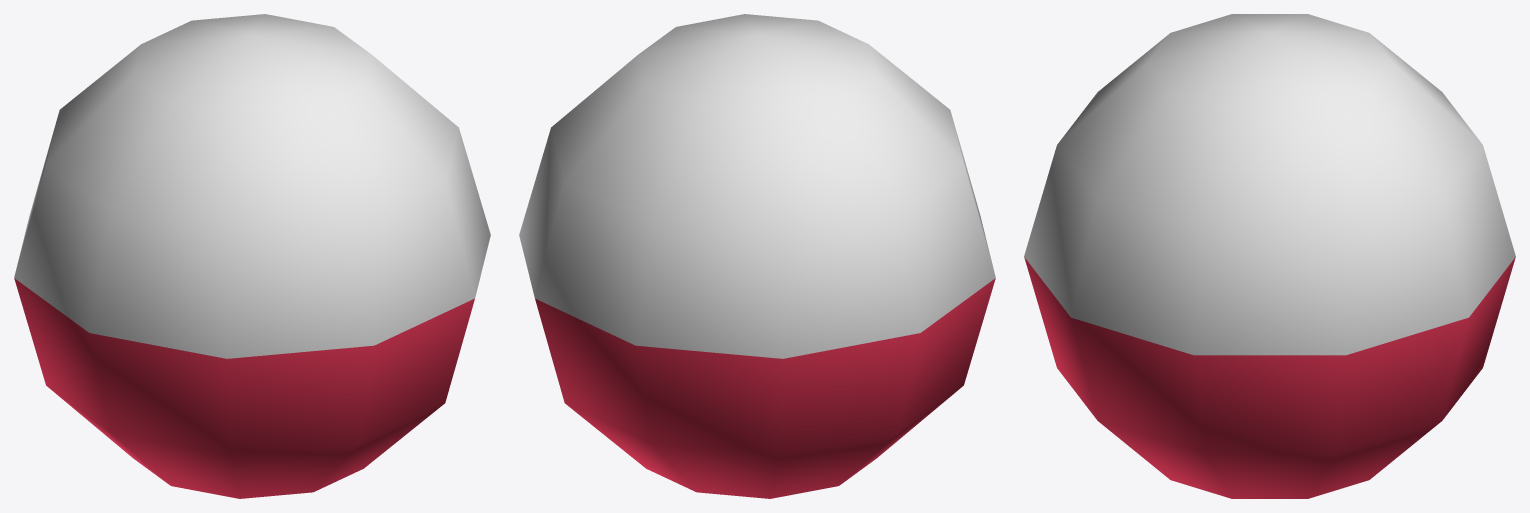
The model's file is bobber.glb.
3 renders of one model, left to right at view 1: azimuth 30°, elevation 25°; view 2: azimuth 150°, elevation 25°; view 3: azimuth 270°, elevation 25°, orthographic.
Parts seen in each view (by area): view 1: Sphere; view 2: Sphere; view 3: Sphere.
Boxes of the visible parts, x1,y1,x2,y2 form: Sphere: [14, 14, 490, 498]; Sphere: [519, 14, 995, 498]; Sphere: [1024, 14, 1515, 498].
Bounding box in the file's own units: 0.1198 × 0.126 × 0.126.
